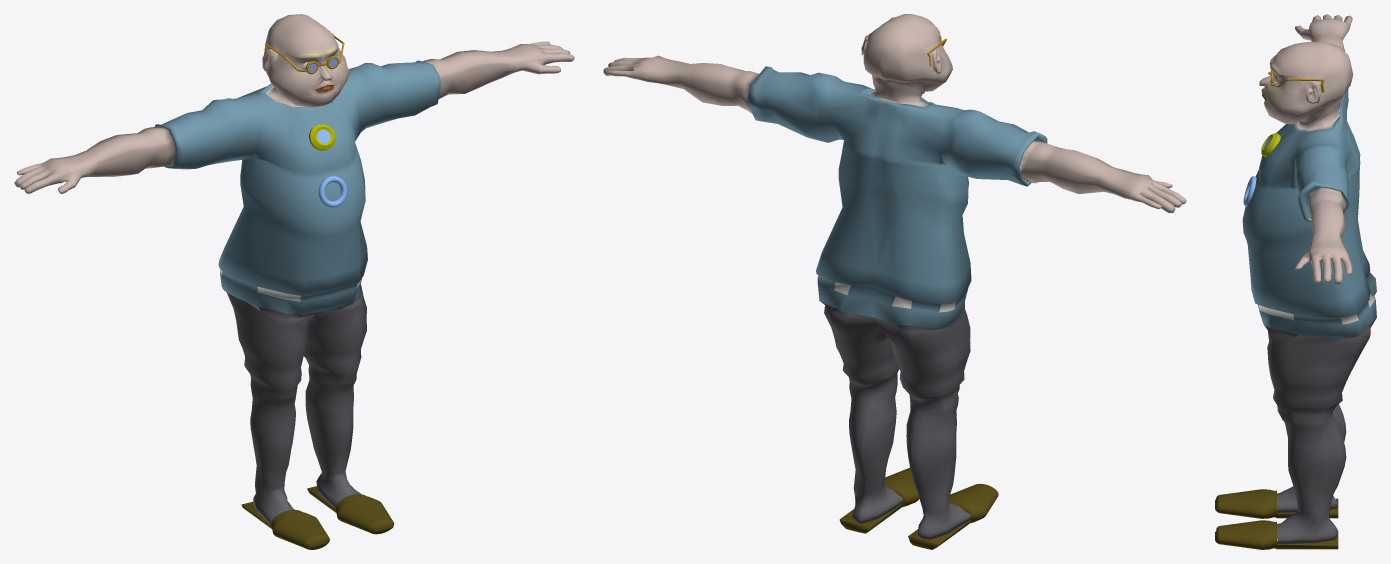
Rendered from main character2 orge.fbx.
The picture shows the model from 3 angles, left to right: view 1: azimuth 30°, elevation 25°; view 2: azimuth 150°, elevation 25°; view 3: azimuth 270°, elevation 25°; orthographic projection. The views are drawn at different scales.
Visible parts, largest first — view 1: whole body, shoes, center light; view 2: whole body, shoes; view 3: whole body, shoes, center light.
Part boxes in pixels (bbox=[...]): whole body: bbox=[14, 14, 574, 524]; shoes: bbox=[241, 486, 394, 549]; center light: bbox=[309, 124, 347, 207]; whole body: bbox=[603, 14, 1186, 539]; shoes: bbox=[839, 468, 998, 549]; whole body: bbox=[1242, 14, 1376, 544]; shoes: bbox=[1215, 489, 1338, 549]; center light: bbox=[1243, 133, 1280, 206].
Bounding box in the file's own units: 2105 × 1798 × 543.
